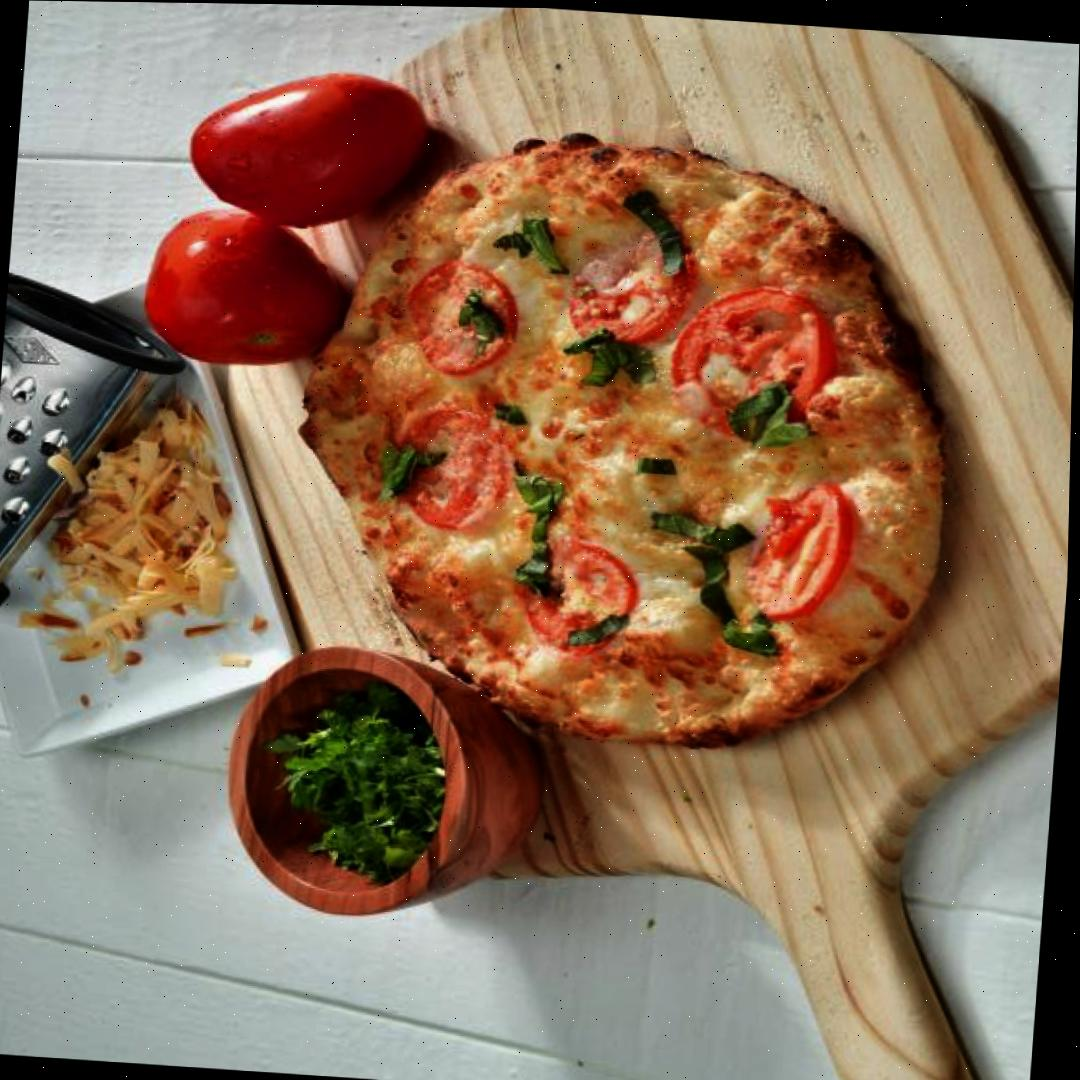matang: (181, 62, 429, 235), (137, 201, 351, 372)
